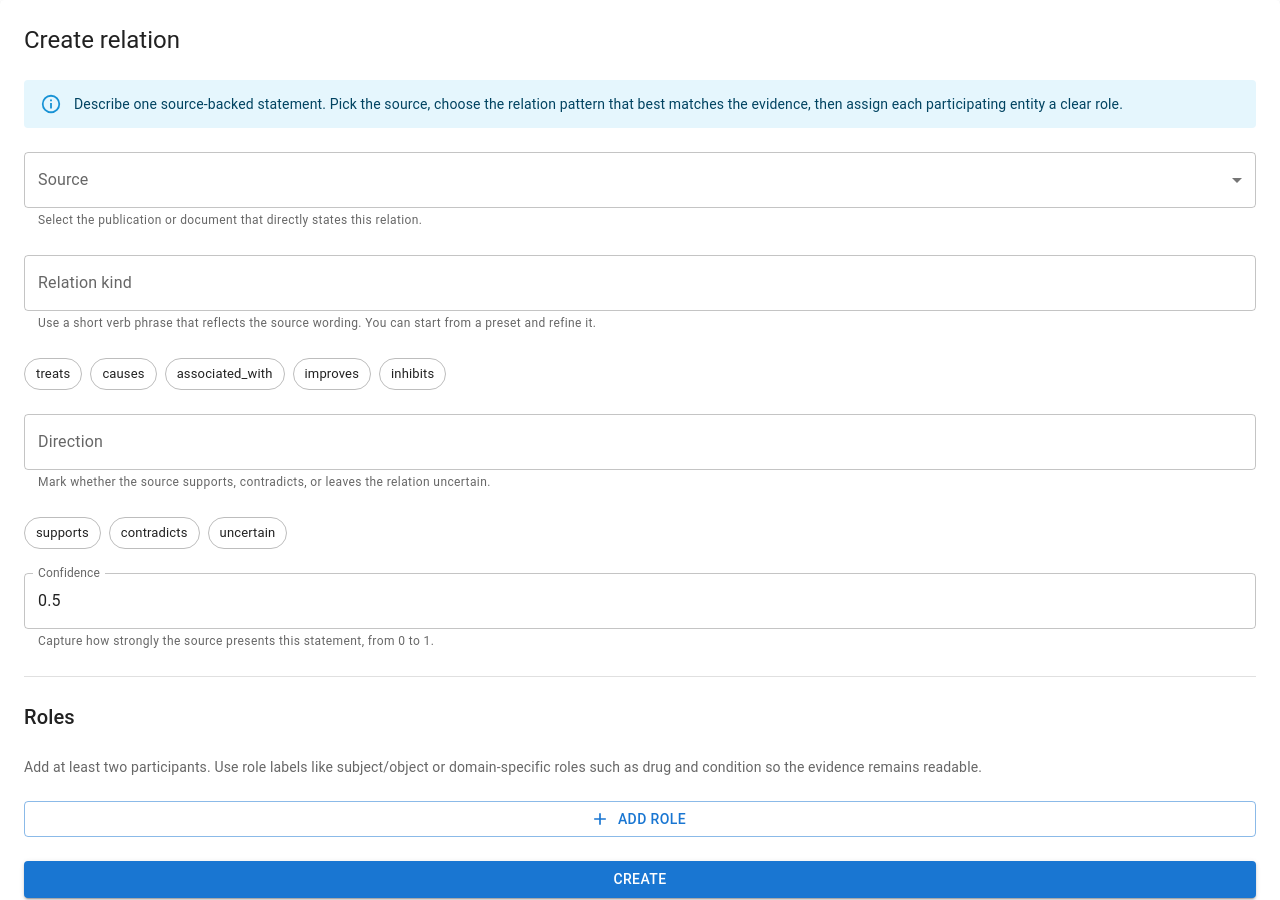
Test: CreateRelationView › Role management › populates entity dropdown in role
Click the button "Add role" at (640,819), box [24, 801, 1256, 837]
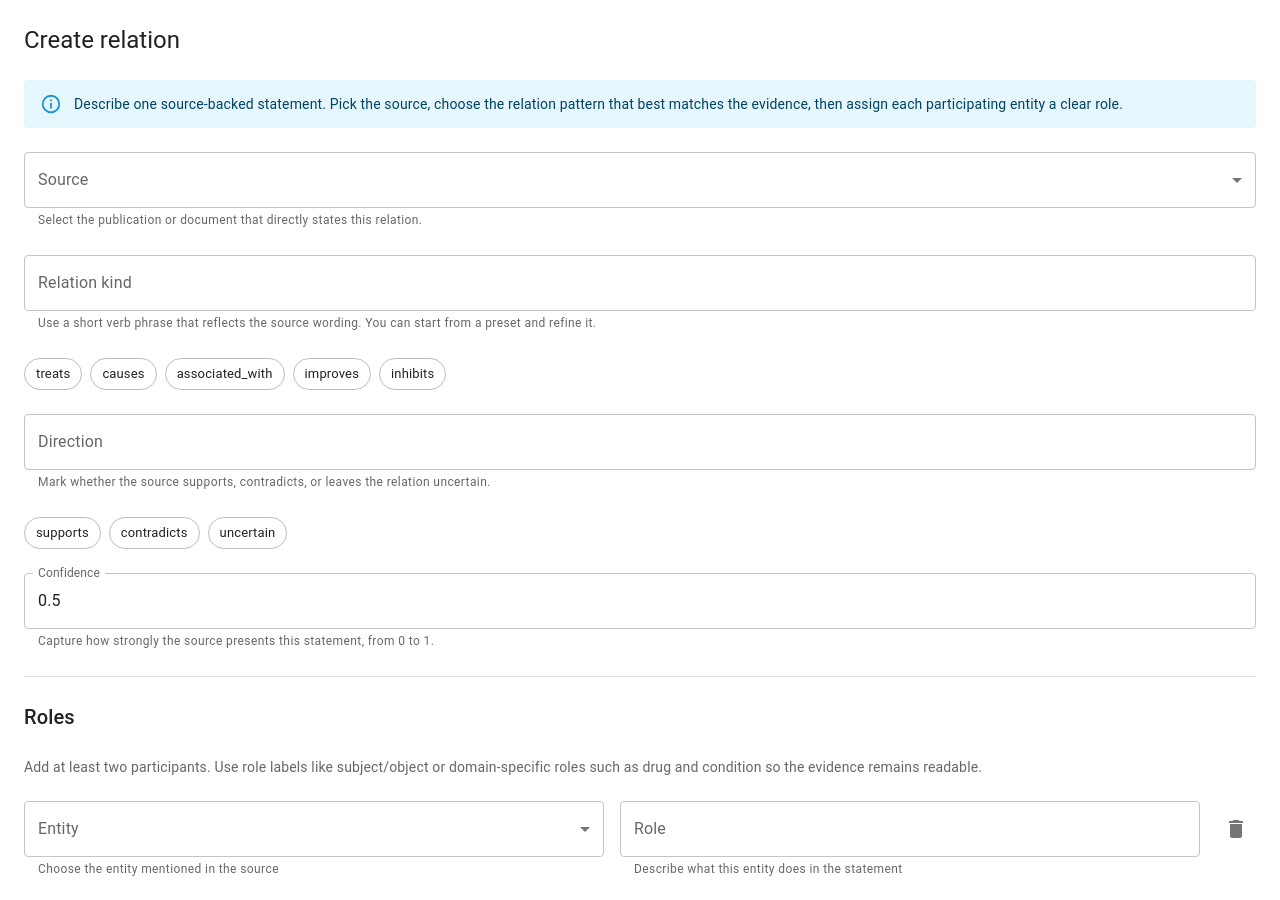
Press the mouse on the 2nd dropdown named "entity" at (314,829), box [24, 801, 604, 857]
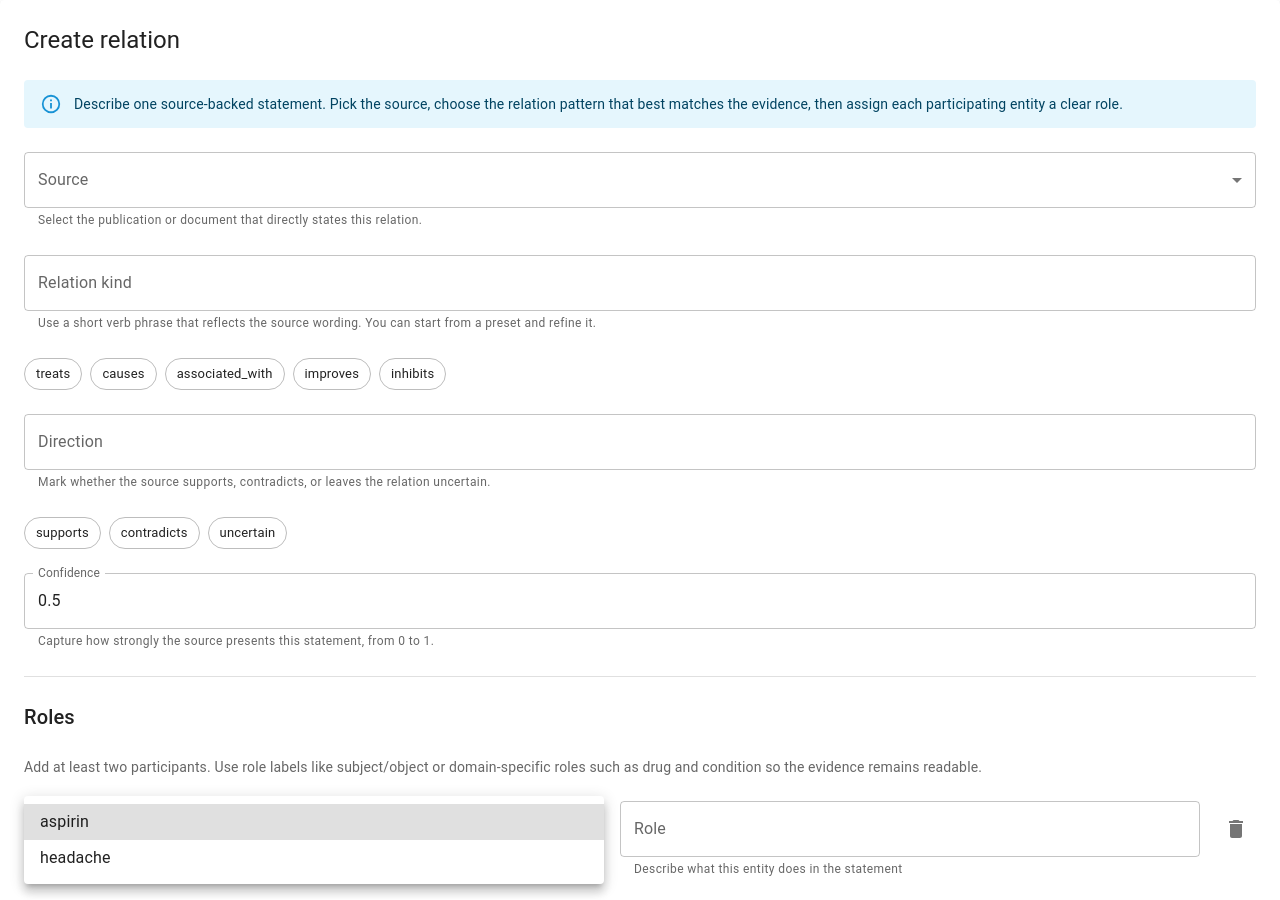
Expected: the option "aspirin" is shown, [24, 804, 604, 840]
Expected: the option "headache" is shown, [40, 848, 111, 867]
